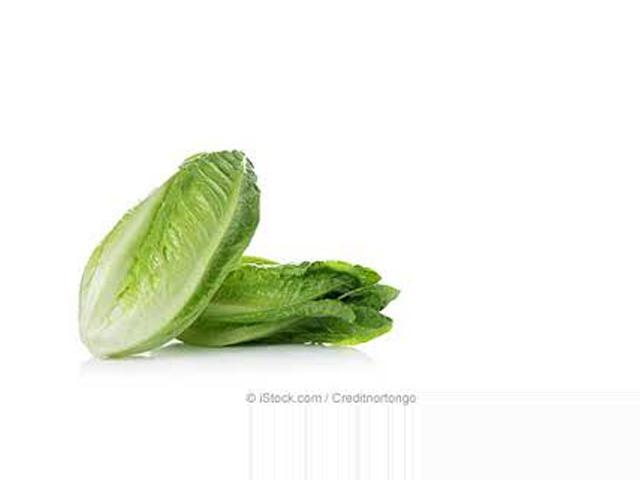lettuce: (176, 234, 395, 376)
